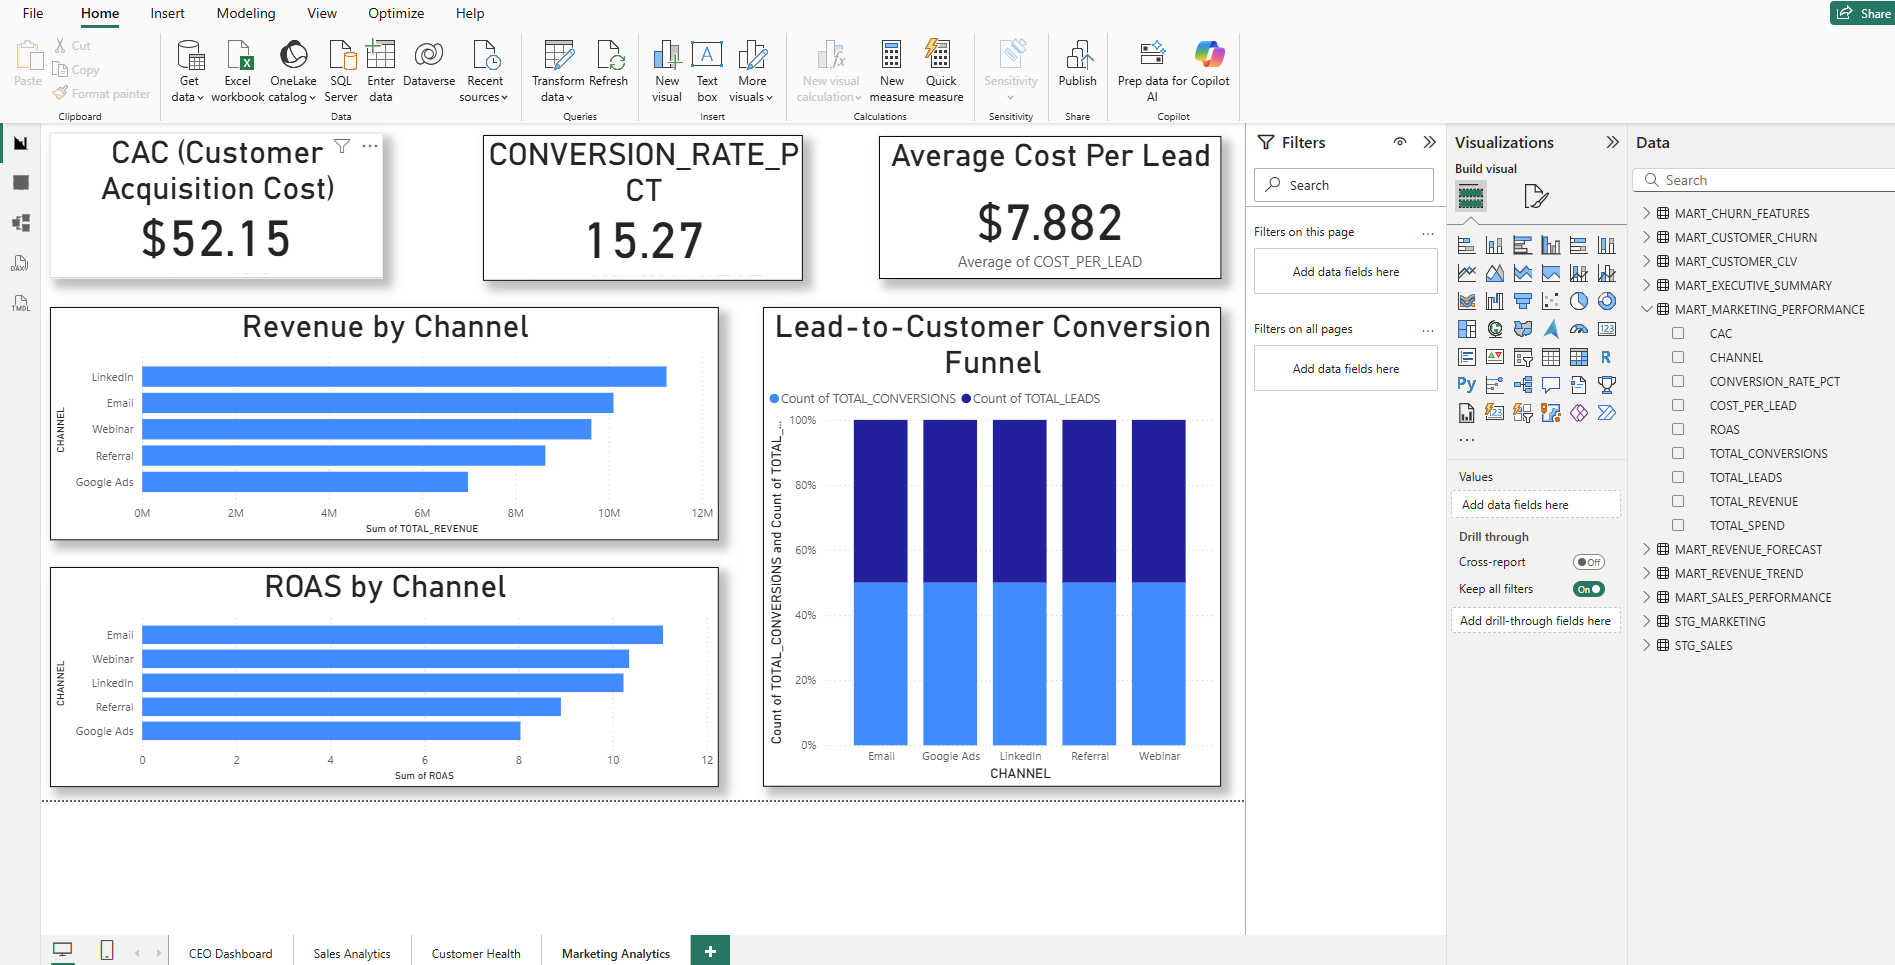

The dashboard page shown, as its layout file describes it:
{"tool":"powerbi","page":{"name":"Marketing Analytics","canvas":[1280,720],"ordinal":3},"visuals":[{"type":"card","title":"CAC (Customer Acquisition Cost)","fields":{"Values":["Avg(MART_MARKETING_PERFORMANCE.CAC)"]},"box":[9.6,10.6,354,155.2],"z":0},{"type":"card","title":"CONVERSION_RATE_PCT","fields":{"Values":["Avg(MART_MARKETING_PERFORMANCE.CONVERSION_RATE_PCT)"]},"box":[469.9,12.8,340.2,155.2],"z":1000},{"type":"card","title":"Average Cost Per Lead","fields":{"Values":["Avg(MART_MARKETING_PERFORMANCE.COST_PER_LEAD)"]},"box":[890.9,13.8,363.6,152],"z":2000},{"type":"clusteredBarChart","title":"Revenue by Channel","fields":{"Category":["MART_MARKETING_PERFORMANCE.CHANNEL"],"Y":["Sum(MART_MARKETING_PERFORMANCE.TOTAL_REVENUE)"]},"box":[9.6,195.6,711.2,247.7],"z":3000},{"type":"clusteredBarChart","title":"ROAS by Channel","fields":{"Category":["MART_MARKETING_PERFORMANCE.CHANNEL"],"Y":["Sum(MART_MARKETING_PERFORMANCE.ROAS)"]},"box":[9.6,472,711.2,233.9],"z":4000},{"type":"hundredPercentStackedColumnChart","title":"Lead-to-Customer Conversion Funnel","fields":{"Category":["MART_MARKETING_PERFORMANCE.CHANNEL"],"Y":["CountNonNull(MART_MARKETING_PERFORMANCE.TOTAL_CONVERSIONS)","CountNonNull(MART_MARKETING_PERFORMANCE.TOTAL_LEADS)"]},"box":[767.6,195.6,486.9,510.3],"z":5000}]}

Visuals, with their boxes on the page's 1280x720 design canvas (x1, y1, x2, y2). These are canvas units, not pixel positions in the 1895x965 screenshot, which may show the page scaled, cropped or inside an application window:
"CAC (Customer Acquisition Cost)" card: l=10, t=11, r=364, b=166
"CONVERSION_RATE_PCT" card: l=470, t=13, r=810, b=168
"Average Cost Per Lead" card: l=891, t=14, r=1254, b=166
"Revenue by Channel" clusteredBarChart: l=10, t=196, r=721, b=443
"ROAS by Channel" clusteredBarChart: l=10, t=472, r=721, b=706
"Lead-to-Customer Conversion Funnel" hundredPercentStackedColumnChart: l=768, t=196, r=1254, b=706
